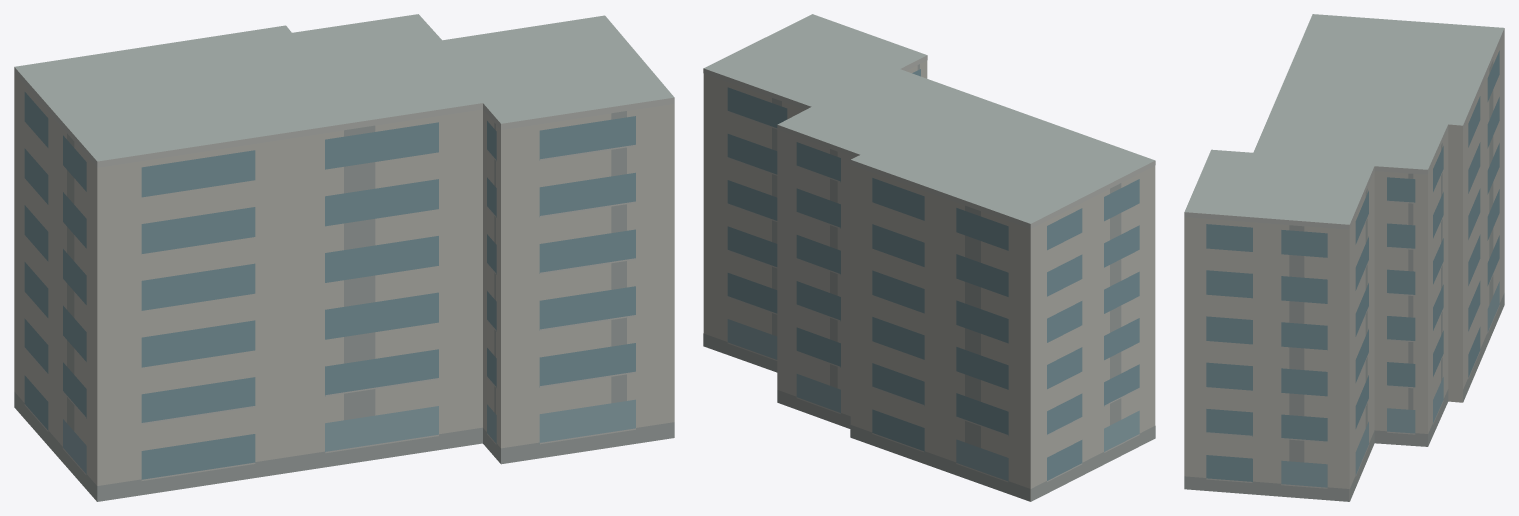
File: survey-upis-32809017.glb
The picture shows the model from 3 angles, left to right: view 1: azimuth 30°, elevation 25°; view 2: azimuth 150°, elevation 25°; view 3: azimuth 270°, elevation 25°; orthographic projection. The views are drawn at different scales.
Visible parts, largest first — view 1: survey-upis-32809017.tmp; view 2: survey-upis-32809017.tmp; view 3: survey-upis-32809017.tmp.
Part boxes in pixels (<box>): survey-upis-32809017.tmp: <box>14,14,674,501</box>; survey-upis-32809017.tmp: <box>703,14,1155,501</box>; survey-upis-32809017.tmp: <box>1184,14,1504,501</box>.
Size of the model in its own units: 21.95 by 13.45 by 14.09.
